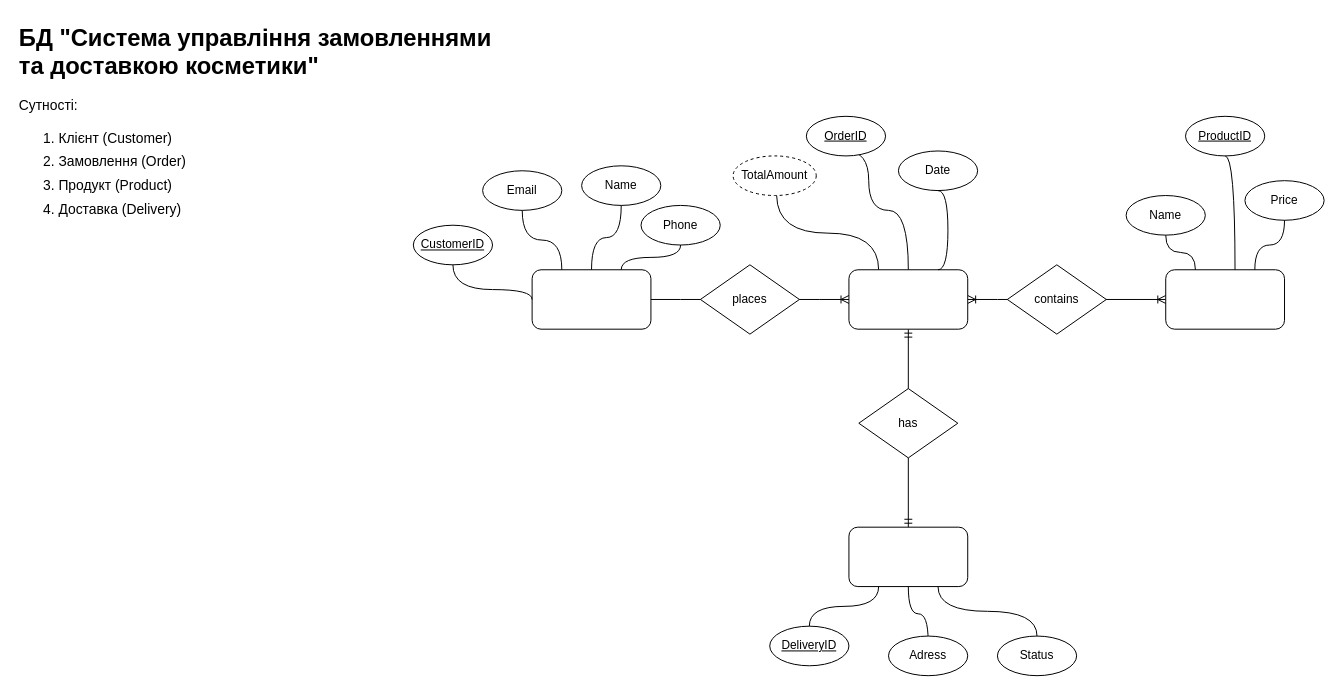
Some shapes in this 1341 by 693 pixel diagram are drawn without their labels. Each missing label, with the box of its shape:
Customer: (531, 269, 651, 329)
Delivery: (848, 526, 968, 587)
Order: (848, 269, 968, 329)
Product: (1165, 269, 1285, 329)
